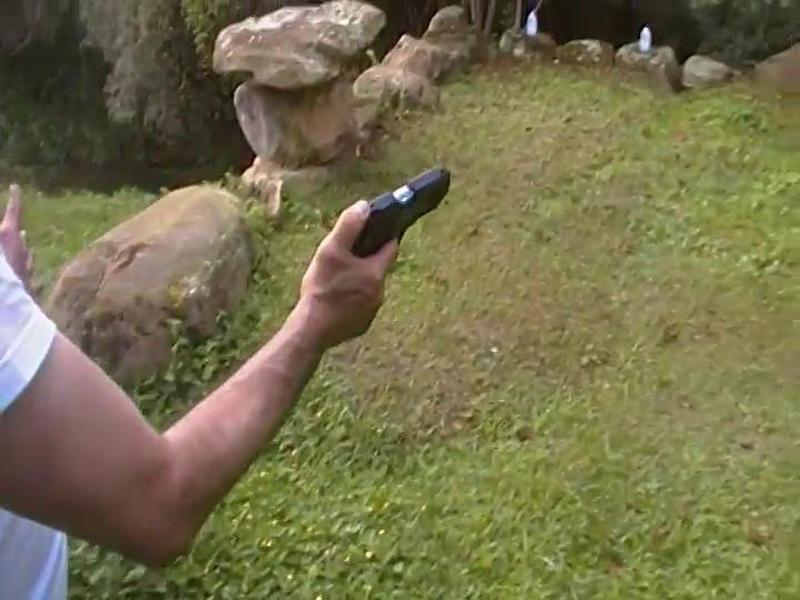Pistola: (315, 147, 470, 306)
